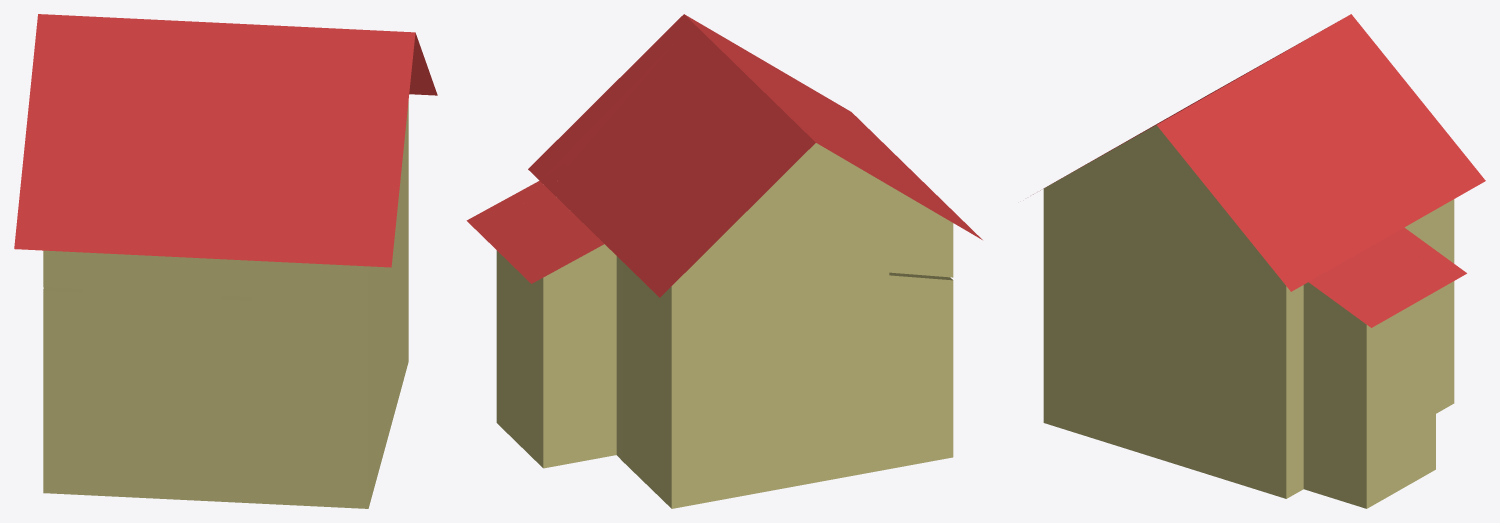
The picture shows the model from 3 angles, left to right: view 1: azimuth 30°, elevation 25°; view 2: azimuth 150°, elevation 25°; view 3: azimuth 270°, elevation 25°; orthographic projection. The views are drawn at different scales.
Bounding box in the file's own units: 16.38 × 15.74 × 12.65.
